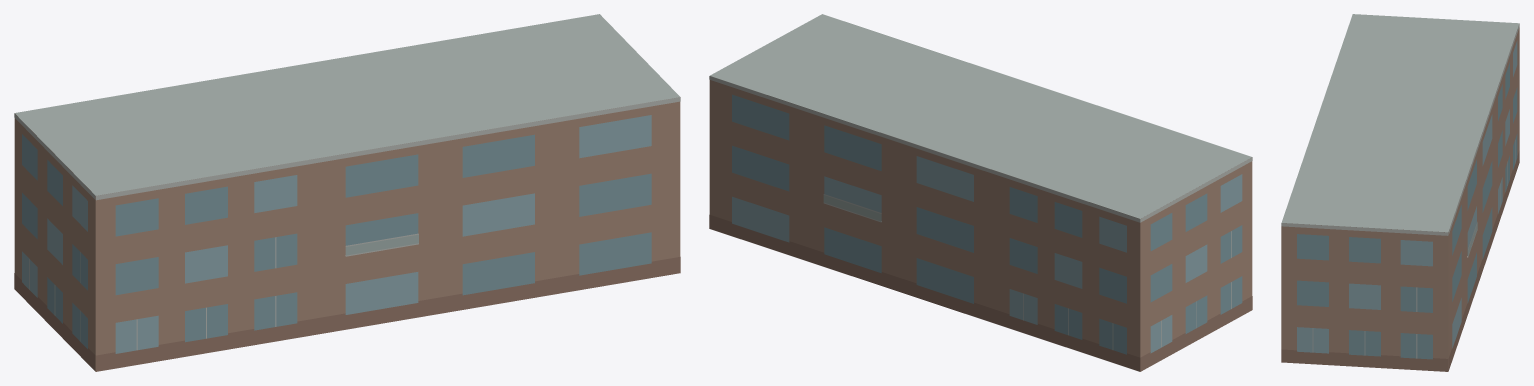
Rendered from survey-upis-32758156.glb.
The picture shows the model from 3 angles, left to right: view 1: azimuth 30°, elevation 25°; view 2: azimuth 150°, elevation 25°; view 3: azimuth 270°, elevation 25°; orthographic projection. The views are drawn at different scales.
Visible parts, largest first — view 1: survey-upis-32758156.tmp; view 2: survey-upis-32758156.tmp; view 3: survey-upis-32758156.tmp.
Part boxes in pixels (<box>): survey-upis-32758156.tmp: <box>14,14,680,371</box>; survey-upis-32758156.tmp: <box>709,14,1252,371</box>; survey-upis-32758156.tmp: <box>1281,14,1519,371</box>.
Bounding box in the file's own units: 32.21 × 9.6 × 14.85.
